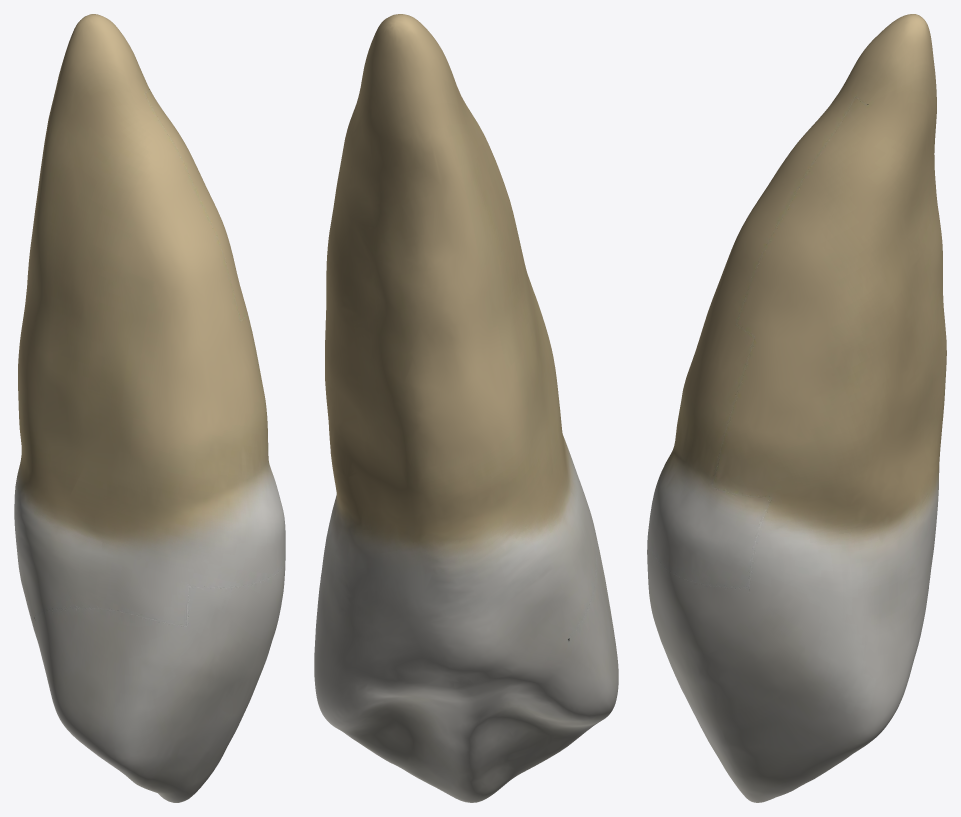
Rendered from maxillary_canine.glb.
3 renders of one model, left to right at view 1: azimuth 30°, elevation 25°; view 2: azimuth 150°, elevation 25°; view 3: azimuth 270°, elevation 25°, orthographic. The views are drawn at different scales.
Parts seen in each view (by area): view 1: Object_2; view 2: Object_2; view 3: Object_2.
Boxes of the visible parts, x1,y1,x2,y2 form: Object_2: (14,14,285,802); Object_2: (314,14,618,802); Object_2: (647,14,946,802).
Bounding box in the file's own units: 0.2798 × 0.9093 × 0.317.
1 material, 1 textured.
